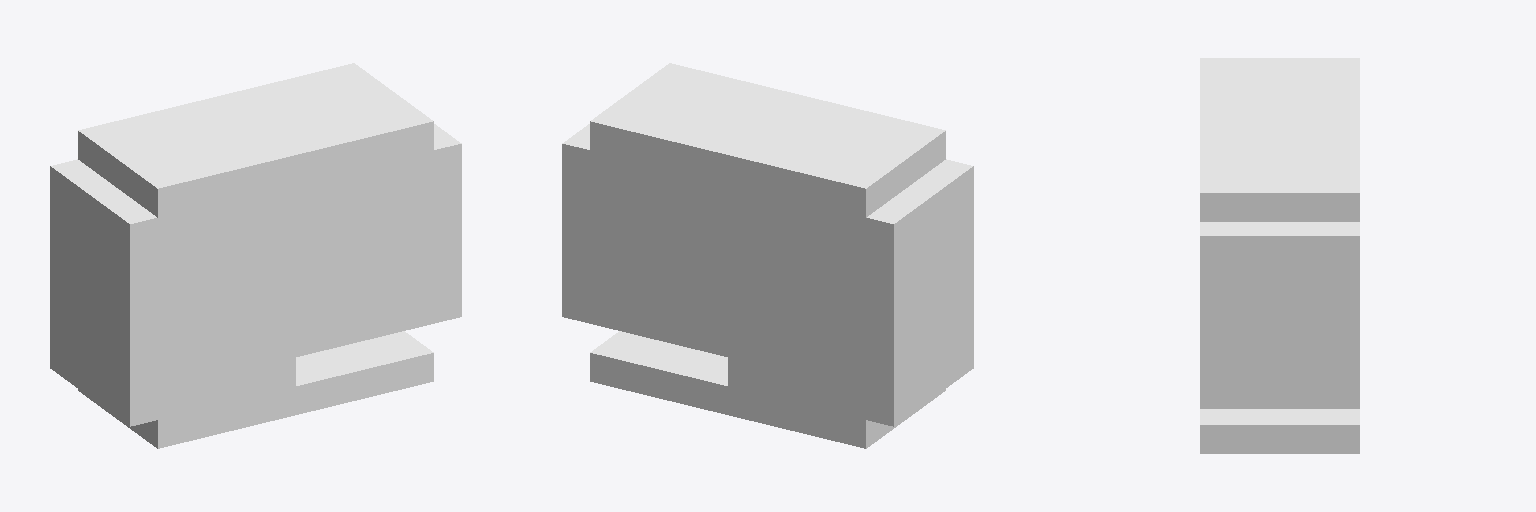
File: dinoskull.obj
3 renders of one model, left to right at view 1: azimuth 30°, elevation 25°; view 2: azimuth 150°, elevation 25°; view 3: azimuth 270°, elevation 25°, orthographic.
Visible parts, largest first — view 1: object 1; view 2: object 1; view 3: object 1.
Boxes of the visible parts, x1=… form: object 1: x1=50, y1=63, x2=461, y2=448; object 1: x1=562, y1=63, x2=973, y2=448; object 1: x1=1200, y1=58, x2=1359, y2=453.
Size of the model in its own units: 1.2 by 0.9 by 0.5.